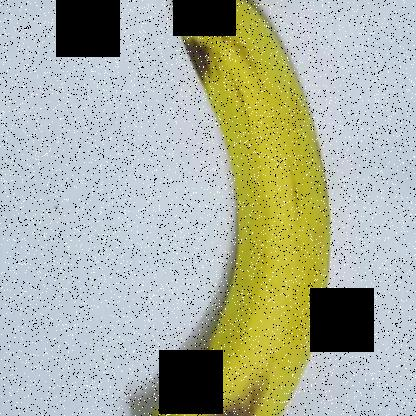freshripe: (110, 1, 343, 415)
